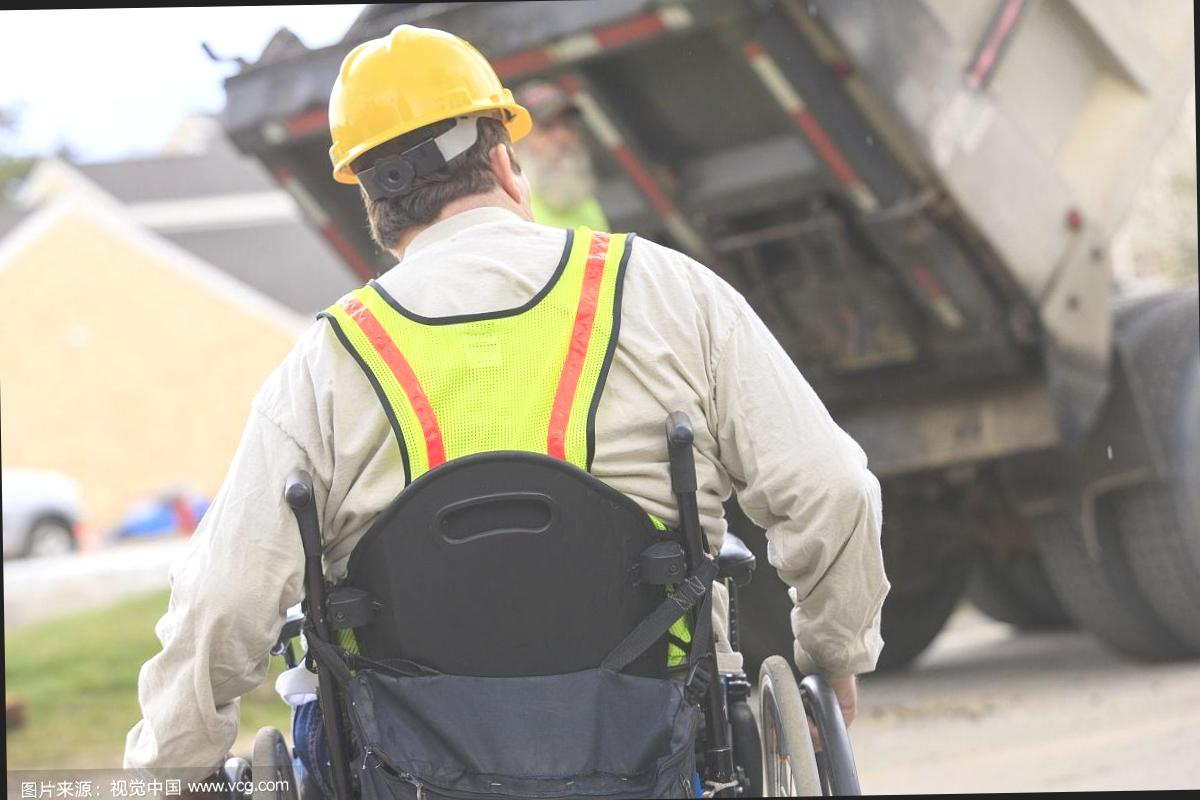helmet: (312, 30, 550, 167)
person: (119, 22, 900, 800)
